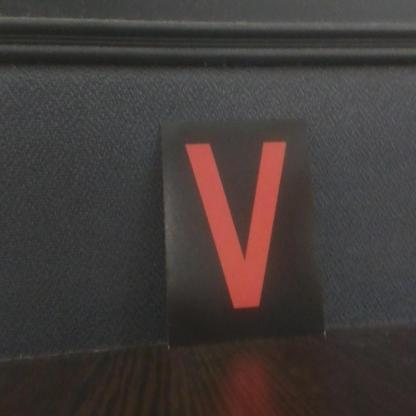v: (160, 117, 325, 335)
